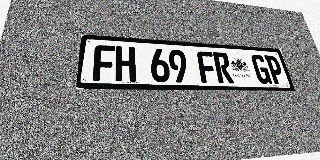6: (150, 48, 171, 82)
9: (168, 49, 189, 83)
F: (93, 45, 115, 81), (196, 51, 218, 83)
G: (250, 54, 272, 84)
H: (115, 46, 136, 82)
P: (264, 55, 286, 84)
R: (212, 52, 234, 83)
